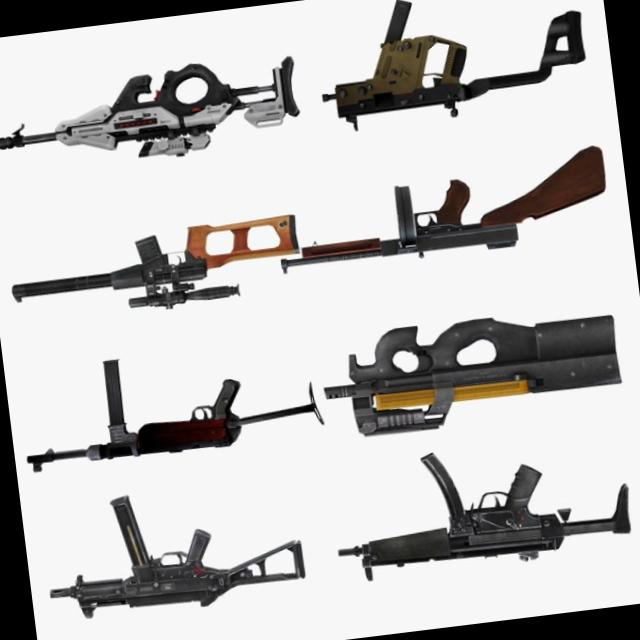Weapon: (323, 424, 640, 589), (313, 293, 636, 447), (265, 138, 616, 278), (14, 332, 323, 480), (37, 469, 320, 628), (0, 48, 304, 182), (307, 0, 593, 136), (0, 202, 302, 324)
